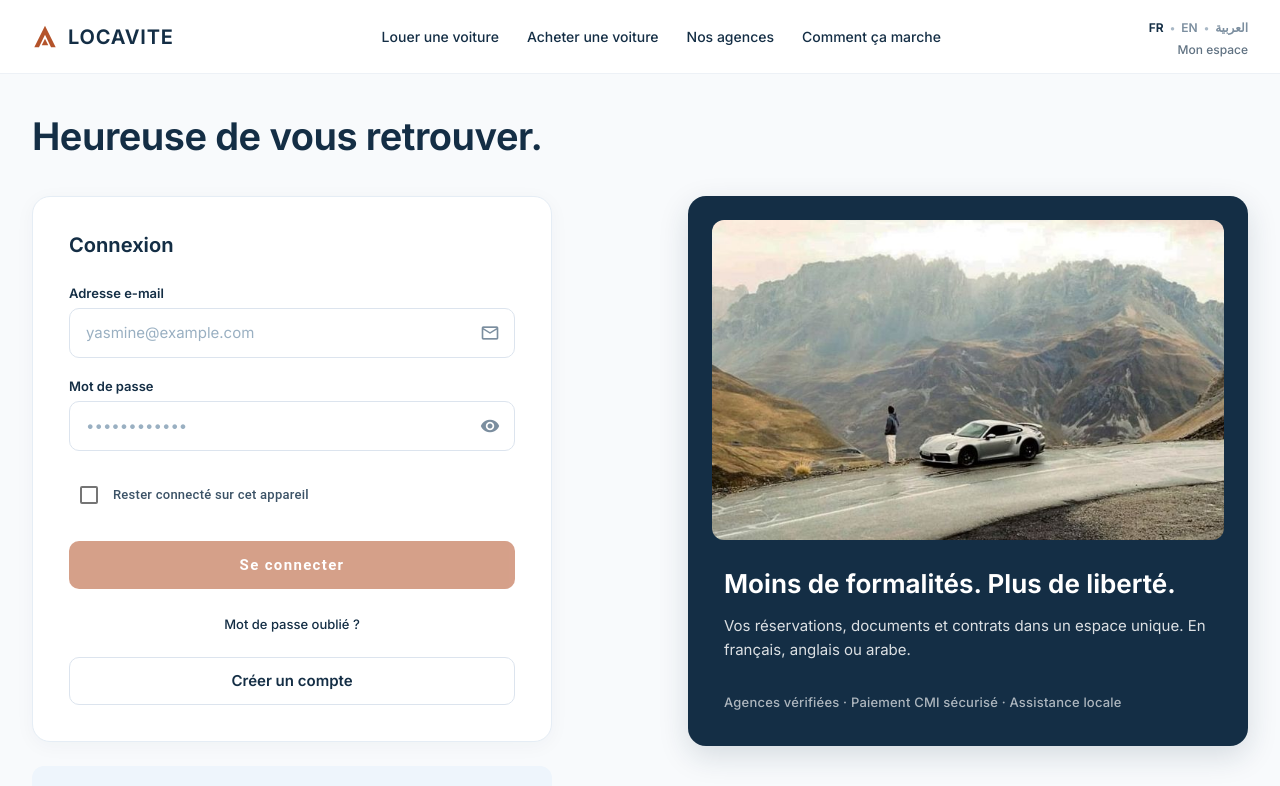
Test case: Page de connexion (Login) › prend en charge le support multilingue (FR / AR / EN)
The image size is (1280, 786).
Note: Passer en arabe
Click the button "العربية": (1232, 28) left=1215, top=20, right=1248, bottom=35
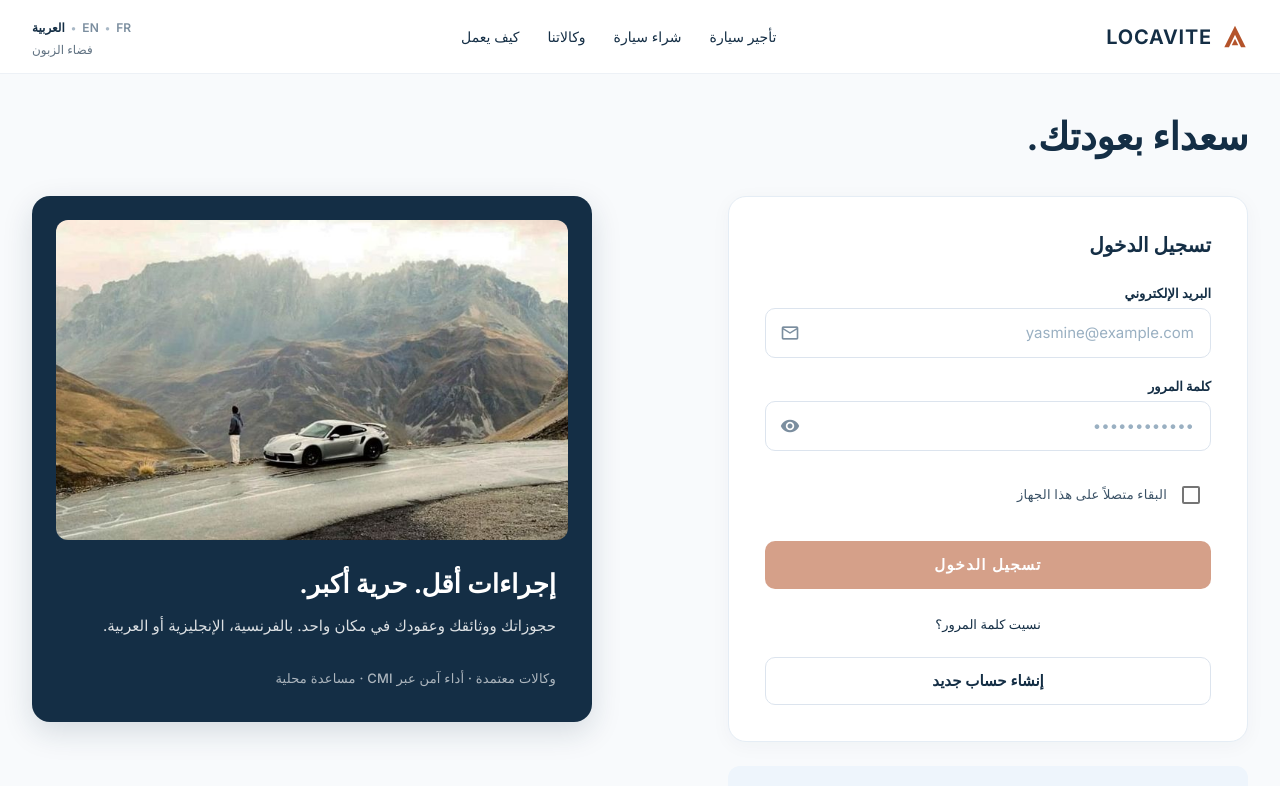
Expected: the heading "تسجيل الدخول" is shown, left=1089, top=233, right=1211, bottom=257
Note: Passer en anglais
Click the button "EN": (90, 28) left=82, top=20, right=98, bottom=35
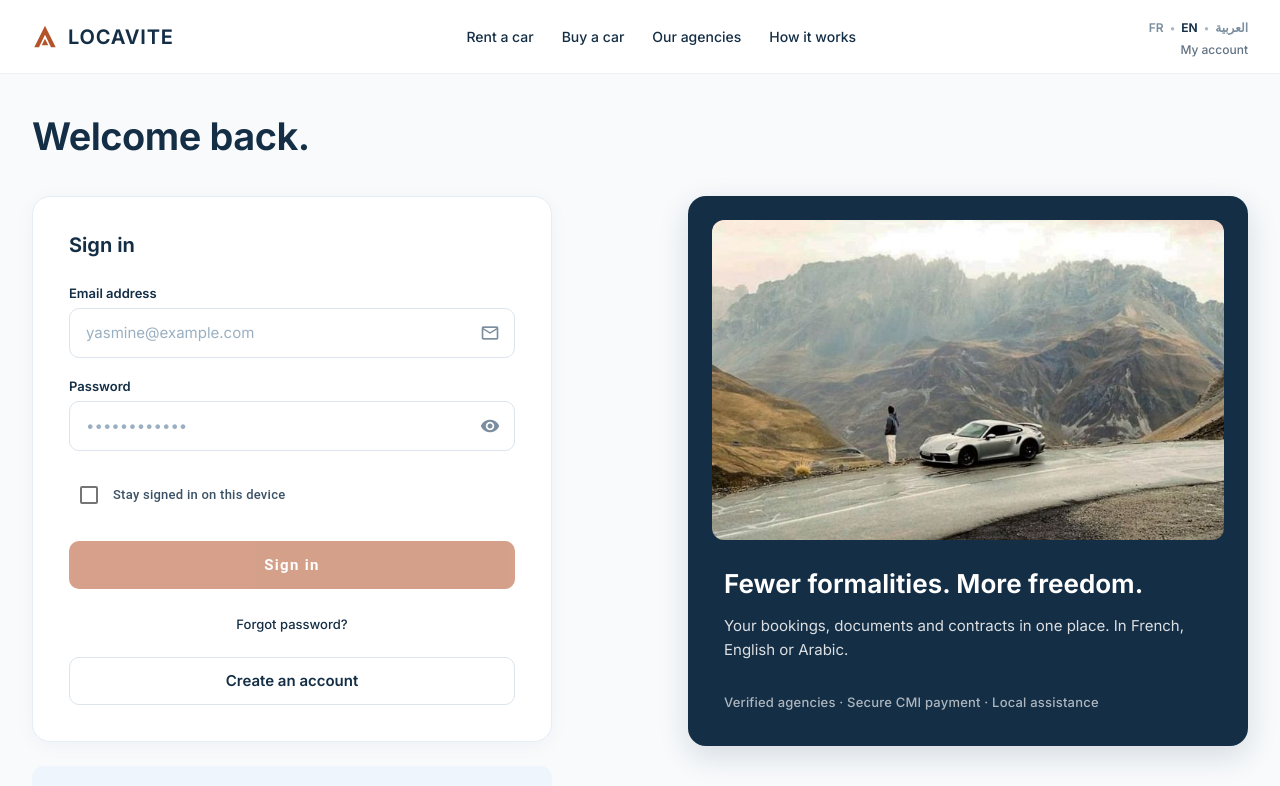
Expected: the heading "Sign in" is shown, left=69, top=233, right=135, bottom=257
Note: Revenir en français
Click the button "FR": (1157, 28) left=1149, top=20, right=1164, bottom=35
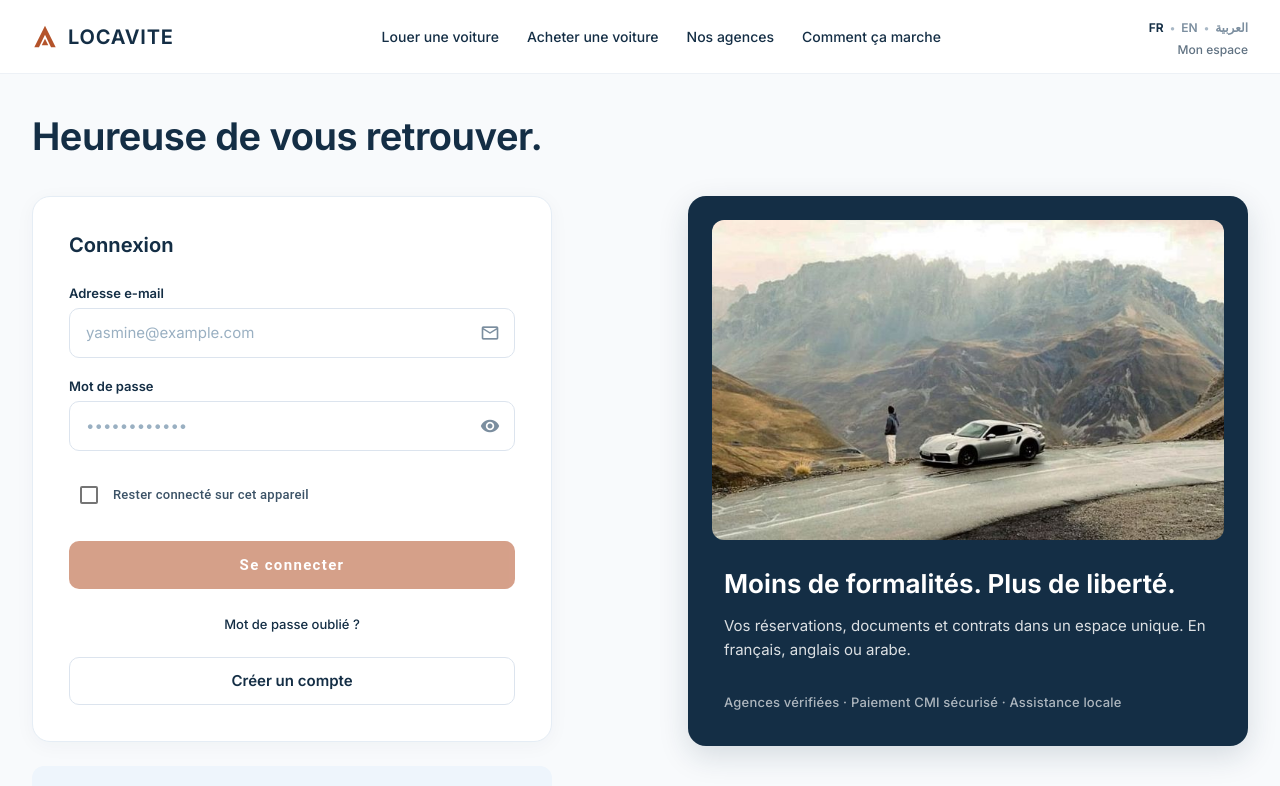
Expected: the heading "Connexion" is shown, left=69, top=233, right=174, bottom=257
